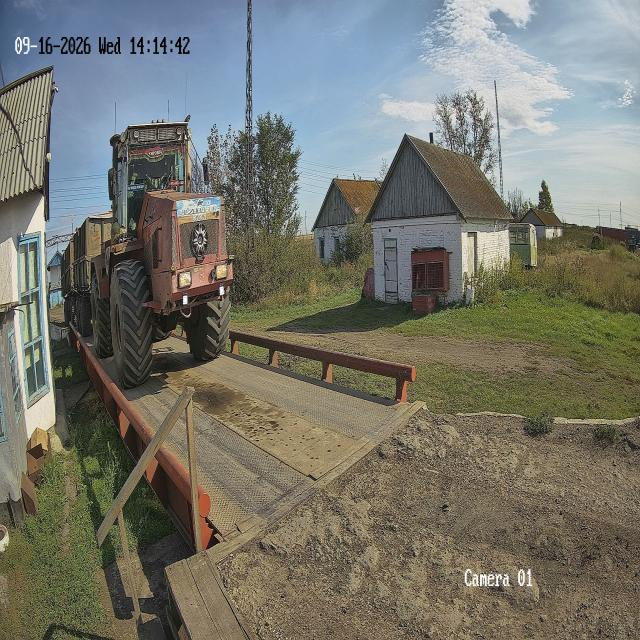tractor: (90, 118, 232, 387)
trailer: (72, 211, 112, 336), (60, 237, 76, 323)
